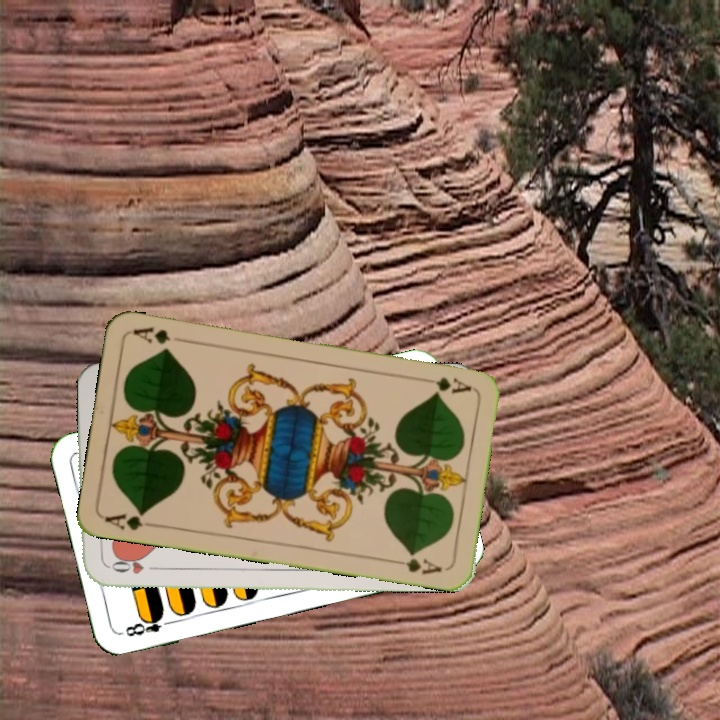E8: (121, 609, 177, 639)
GA: (101, 507, 160, 533), (416, 373, 474, 396)
HO: (102, 556, 161, 577)
